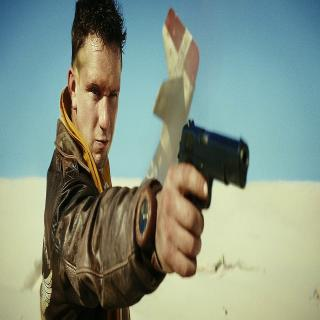gun: (164, 109, 250, 282)
